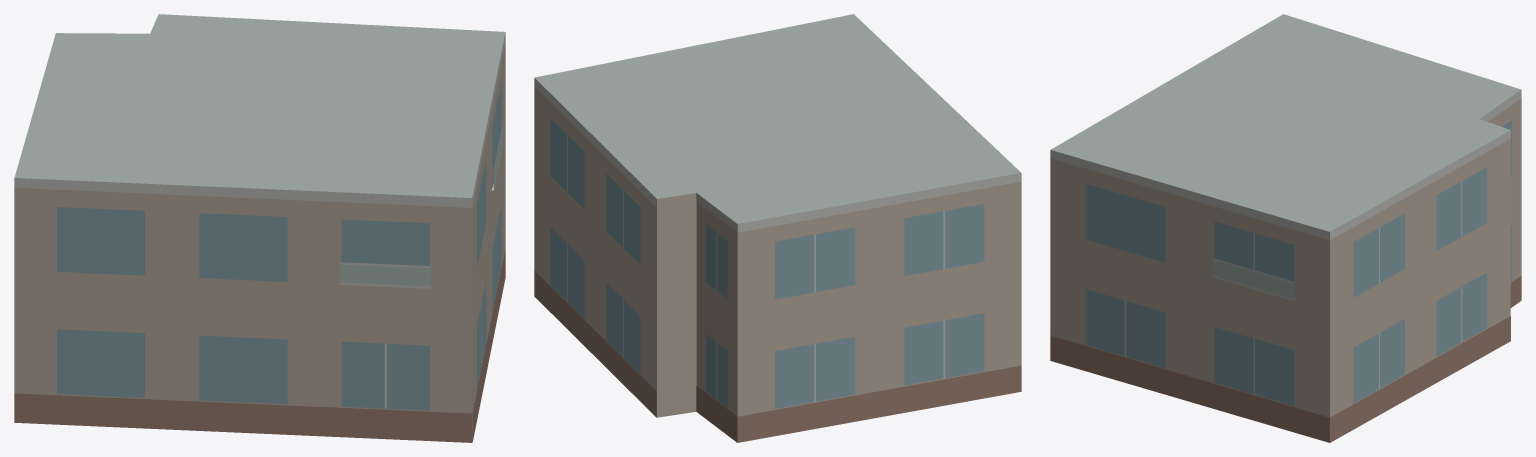
File: survey-upis-32494177.glb
The picture shows the model from 3 angles, left to right: view 1: azimuth 30°, elevation 25°; view 2: azimuth 150°, elevation 25°; view 3: azimuth 270°, elevation 25°; orthographic projection. The views are drawn at different scales.
Parts seen in each view (by area): view 1: survey-upis-32494177.tmp; view 2: survey-upis-32494177.tmp; view 3: survey-upis-32494177.tmp.
Part boxes in pixels (x1,y1,x2,y2): survey-upis-32494177.tmp: [14, 14, 505, 442]; survey-upis-32494177.tmp: [534, 14, 1021, 442]; survey-upis-32494177.tmp: [1050, 14, 1521, 442].
Bounding box in the file's own units: 13.52 × 6.1 × 12.36.
